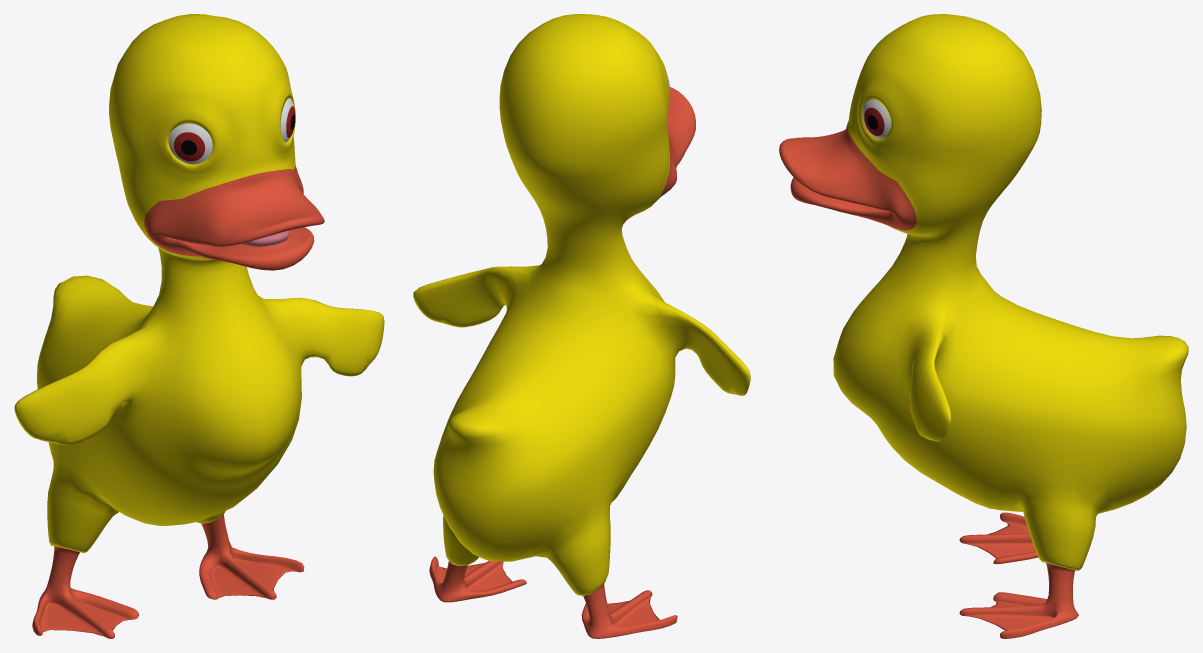
Rendered from patito.fbx.
The picture shows the model from 3 angles, left to right: view 1: azimuth 30°, elevation 25°; view 2: azimuth 150°, elevation 25°; view 3: azimuth 270°, elevation 25°; orthographic projection. The views are drawn at different scales.
Visible parts, largest first — view 1: Sphere.003; view 2: Sphere.003; view 3: Sphere.003.
Boxes of the visible parts, bbox=[...] form: Sphere.003: bbox=[14, 14, 384, 638]; Sphere.003: bbox=[413, 14, 750, 638]; Sphere.003: bbox=[779, 14, 1188, 638].
Bounding box in the file's own units: 8.65 × 13.49 × 9.
